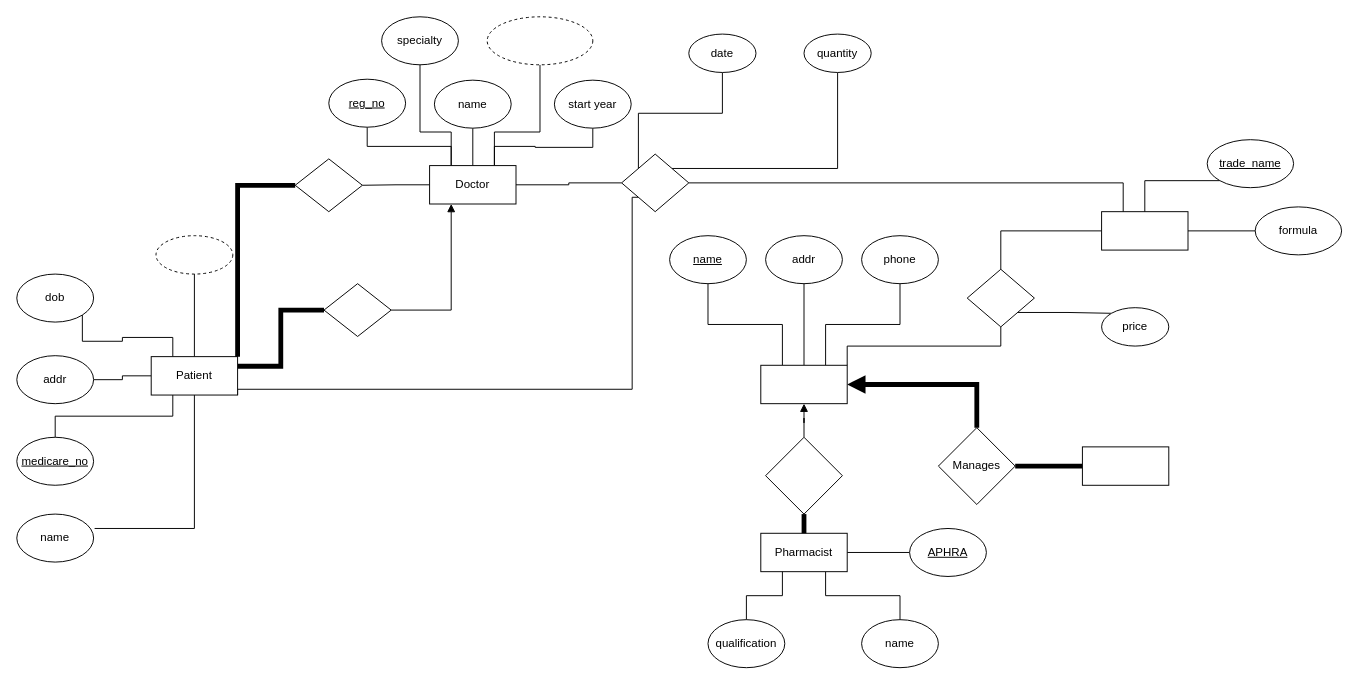
This 1358x684 diagram has some shape labels left out. Here are the shapes that lost their labels. From the top down, the centre of each, then its label:
pixel 539 40: years_of_service
pixel 328 185: Sees
pixel 655 182: Prescribes
pixel 1144 230: Prescription Medicine
pixel 194 254: age
pixel 357 309: is primary
pixel 1000 297: Sells
pixel 803 384: Pharmacy
pixel 803 475: Works at
pixel 1125 465: Manager
